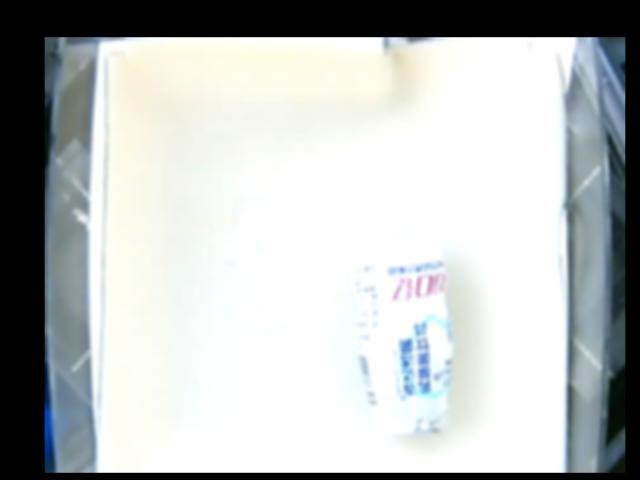Bottle: (349, 236, 449, 434)
